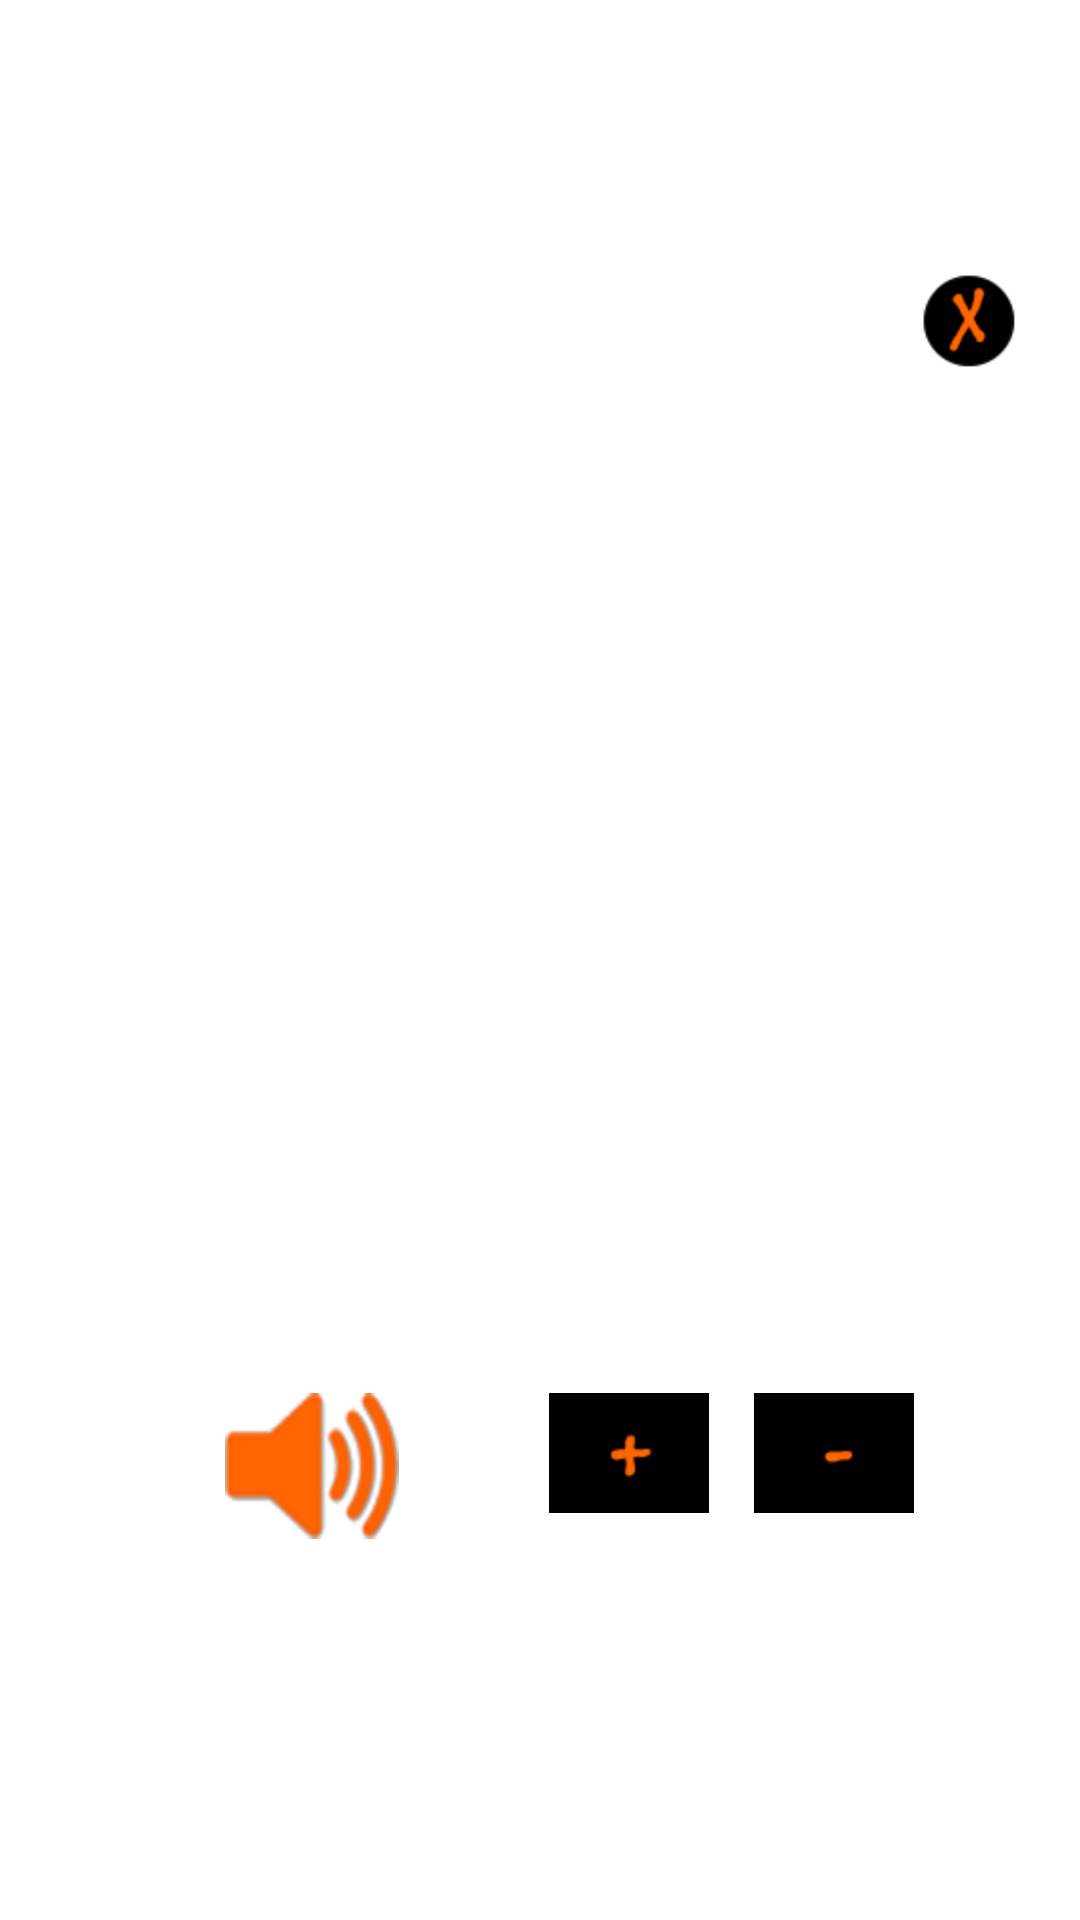

Screen size 1080*1920. Icon name, then its box in pixels as (x1, y1, x2, y2):
Close Button!: (923, 275, 1015, 367)
Minus Speech Speed Button!: (754, 1393, 914, 1513)
Play Slang Button!: (225, 1393, 399, 1539)
Plus Speech Speed Button!: (549, 1393, 709, 1513)
